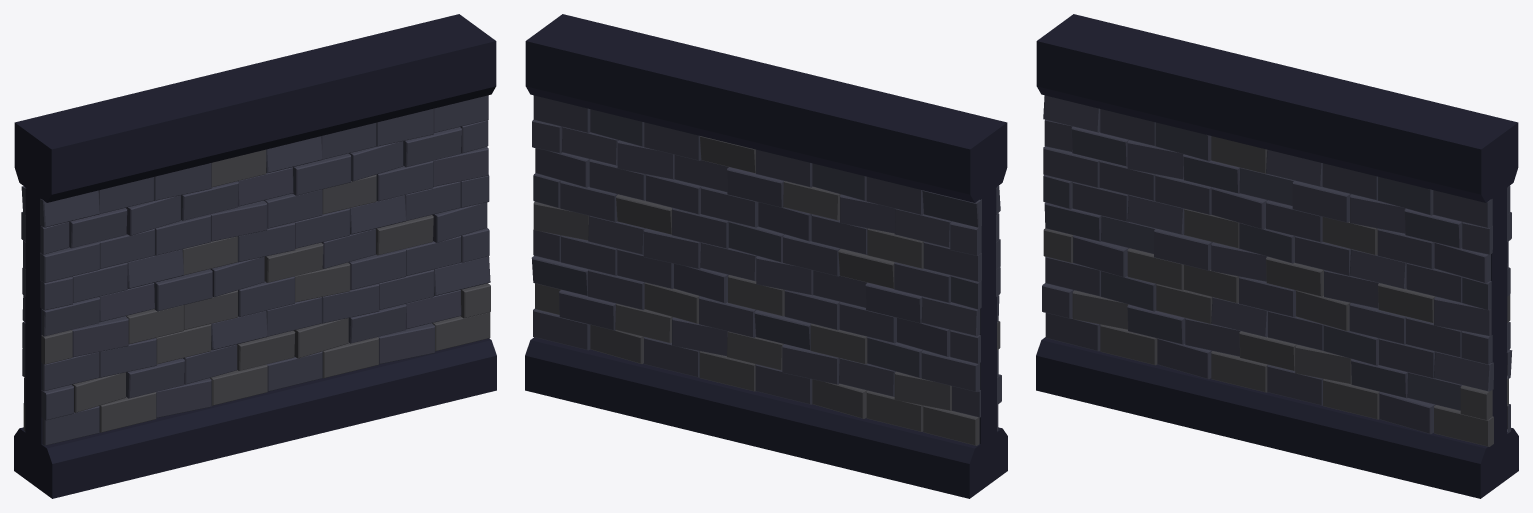
File: Wall_Large.fbx
The picture shows the model from 3 angles, left to right: view 1: azimuth 30°, elevation 25°; view 2: azimuth 150°, elevation 25°; view 3: azimuth 330°, elevation 25°; orthographic projection.
Parts seen in each view (by area): view 1: 1-Wall_Large; view 2: 1-Wall_Large; view 3: 1-Wall_Large.
Boxes of the visible parts, bbox=[...] form: 1-Wall_Large: bbox=[14, 14, 496, 498]; 1-Wall_Large: bbox=[525, 14, 1007, 498]; 1-Wall_Large: bbox=[1036, 14, 1518, 498].
Bounding box in the file's own units: 8.03 × 1.19 × 6.
